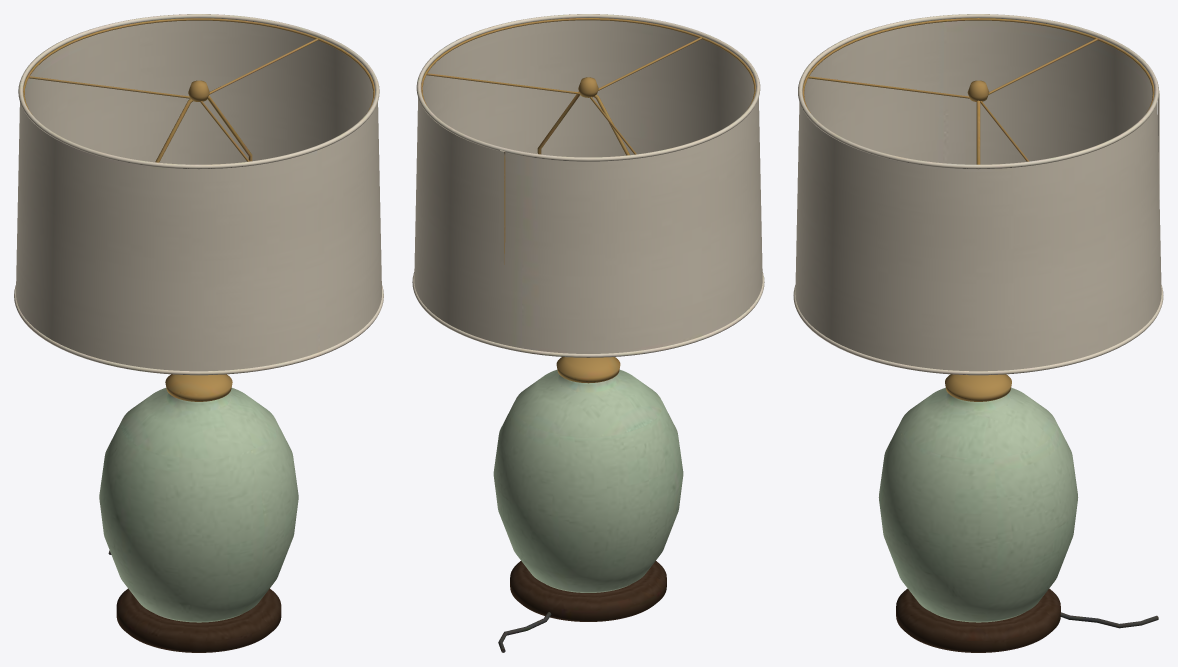
Rendered from w51lamp.glb.
3 renders of one model, left to right at view 1: azimuth 30°, elevation 25°; view 2: azimuth 150°, elevation 25°; view 3: azimuth 270°, elevation 25°, orthographic. The views are drawn at different scales.
Visible parts, largest first — view 1: lamp; view 2: lamp; view 3: lamp.
Boxes of the visible parts, <box> form: lamp: <box>14,14,383,652</box>; lamp: <box>412,14,764,652</box>; lamp: <box>793,14,1163,652</box>.
Bounding box in the file's own units: 0.342 × 0.55 × 0.342.
1 material, 1 textured.
